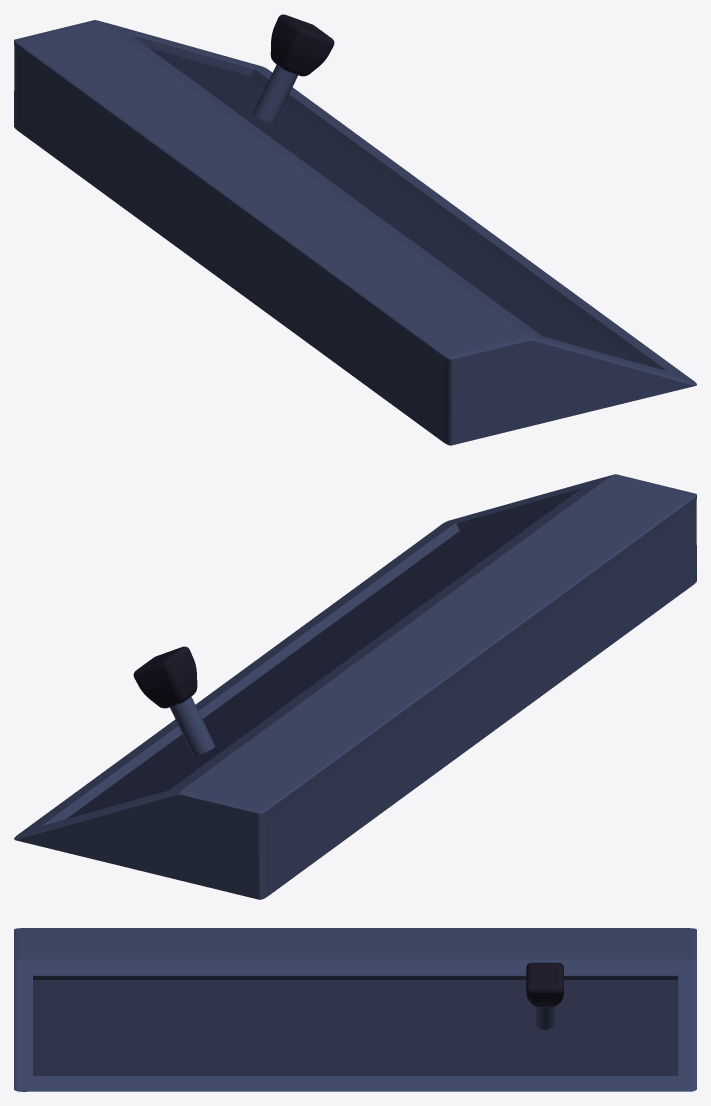
Rendered from islandviewcontrolboard.glb.
The picture shows the model from 3 angles, top to bottom: view 1: azimuth 30°, elevation 25°; view 2: azimuth 150°, elevation 25°; view 3: azimuth 270°, elevation 25°; orthographic projection. The views are drawn at different scales.
Visible parts, largest first — view 1: Board, Joystick; view 2: Board, Joystick; view 3: Board, Joystick.
Boxes of the visible parts, bbox=[...] form: Board: bbox=[14, 20, 696, 445]; Joystick: bbox=[252, 14, 334, 123]; Board: bbox=[14, 474, 696, 899]; Joystick: bbox=[133, 646, 215, 755]; Board: bbox=[14, 928, 696, 1091]; Joystick: bbox=[526, 962, 563, 1029].
Size of the model in its own units: 0.1517 by 0.0762 by 0.4572.
